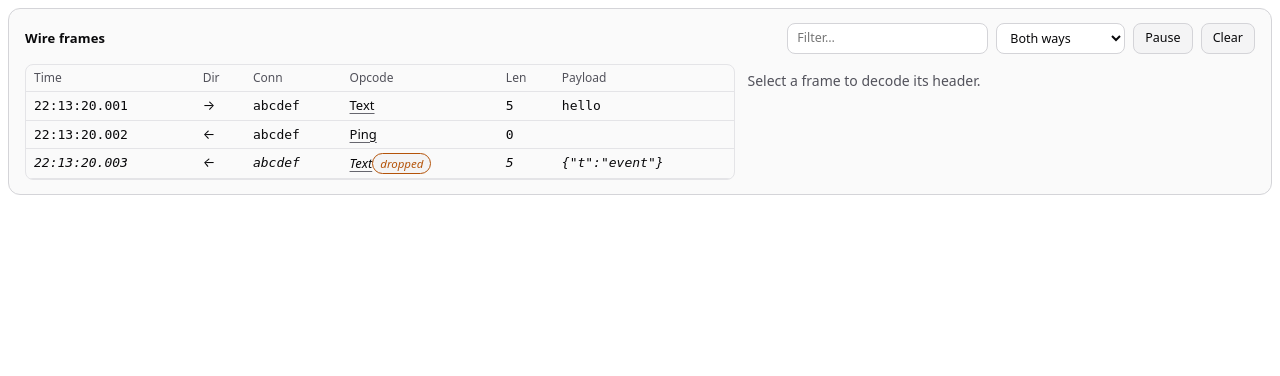
Scenario: WireFrameInspector › lists frames, filters them, and decodes the selected header in the browser
Check: the text "hello" is shown, box [554,92,734,120]
Check: the text "dropped" is shown once, box [372,153,431,174]
Select "Client → server" in the dropdown named "Direction": [1061, 38] box [996,23,1125,54]
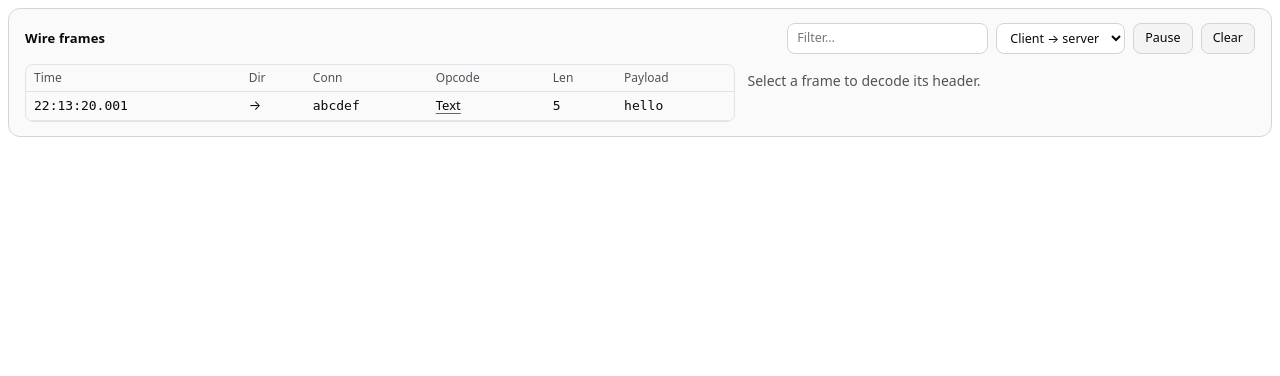
Check: the button "Ping" is gone
Select "Both ways" in the dropdown named "Direction": [1061, 38] box [996,23,1125,54]
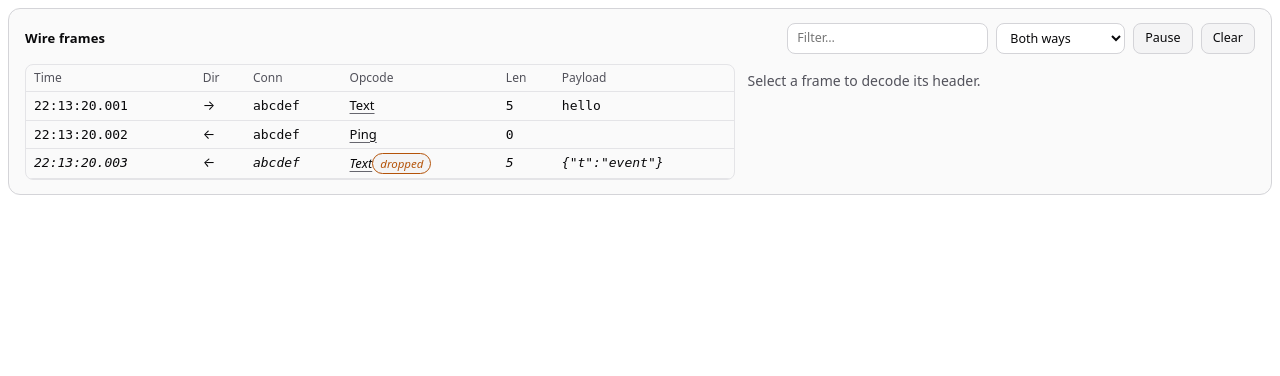
Click the button "Text" in the row of "22:13:20.001": [362, 106] box [350,96,374,116]
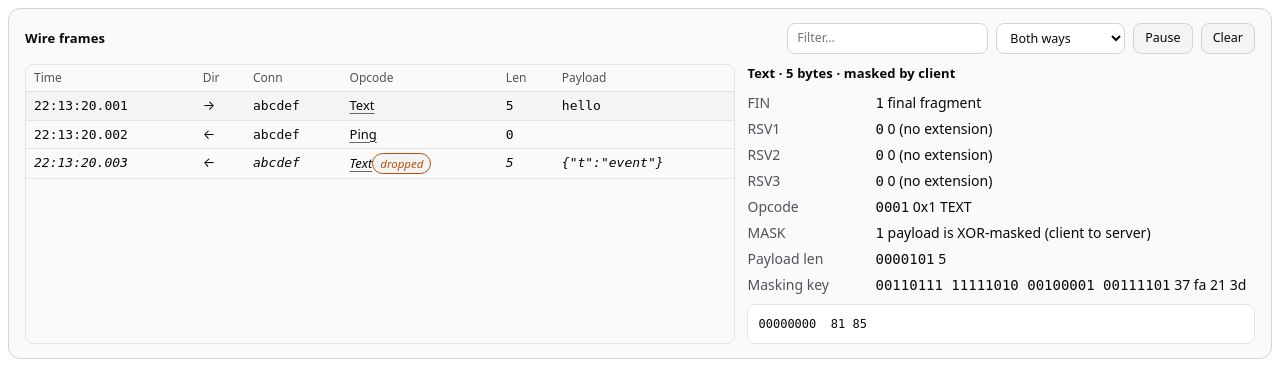
Check: the text "FIN" is shown, box [748,92,770,112]
Check: the text "MASK" is shown, box [748,222,786,242]
In the search field named "Filter frames": [888, 38] box [787,23,988,54], type "zzz"
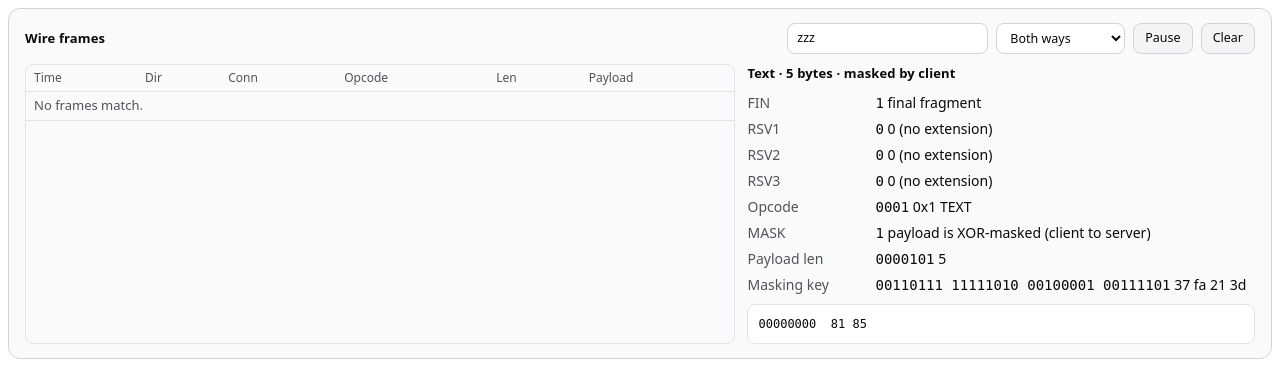
Check: the text "No frames match." is shown, box [26,92,734,120]
